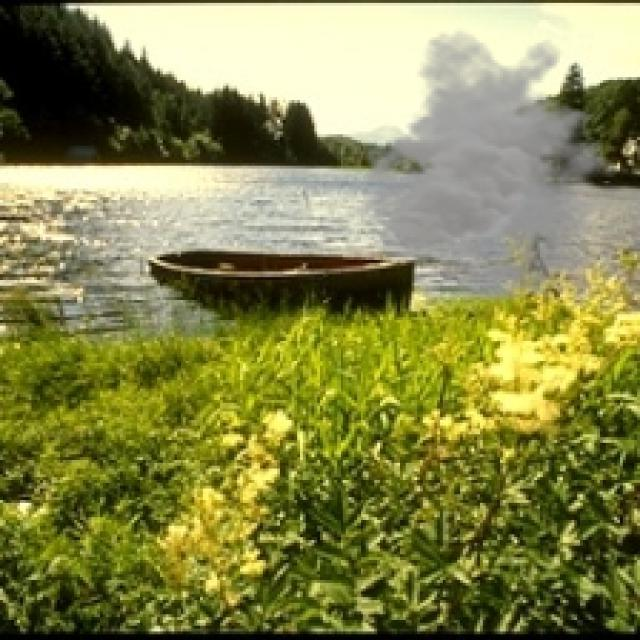Smoke: (352, 28, 634, 303)
